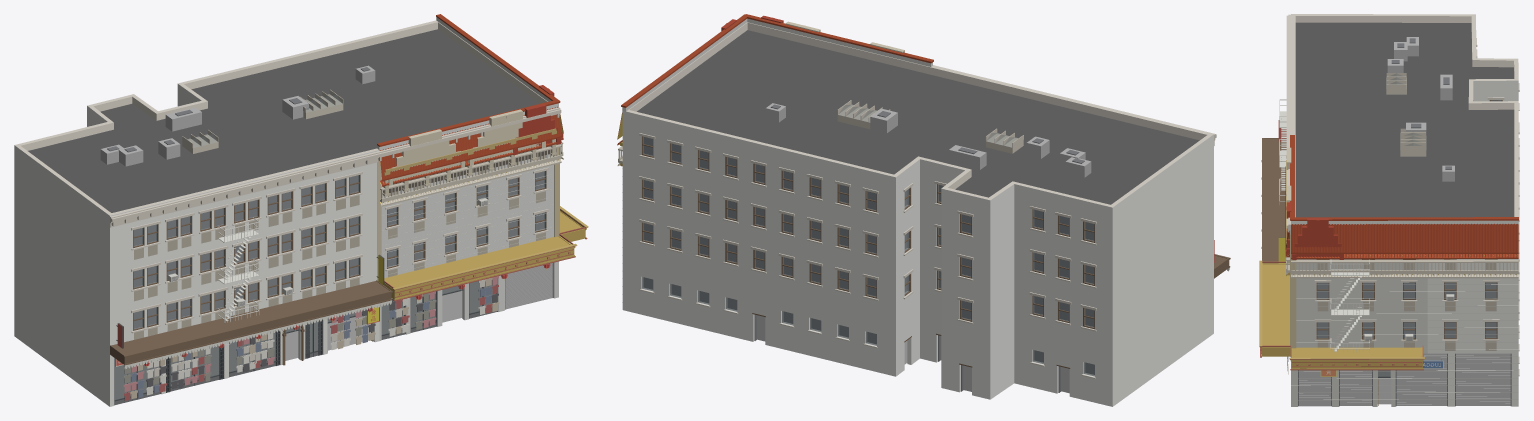
File: exterior.glb
3 views of the same model, side by side, from view 1: azimuth 30°, elevation 25°; view 2: azimuth 150°, elevation 25°; view 3: azimuth 270°, elevation 25° (orthographic). The views are drawn at different scales.
Parts seen in each view (by area): view 1: shell, roof, glazing, marquee-spans, shadow-proxy, trim, shop-hanging-goods, wall-grime, frames, parapet-gables, tile-eave-spans, storefront (+11 smaller); view 2: shell, roof, glazing, shadow-proxy, trim, frames, crown-parapet, rooftop-units, roof-monitors; view 3: roof, shell, tile-eave-spans, marquee-spans, storefront, score-lines, balustrade-spans, trim, crown-parapet, shadow-proxy, glazing, marquee-trim (+10 smaller).
Boxes of the visible parts, left/top/right/bottom form: shell: left=14, top=20, right=558, bottom=406; roof: left=28, top=29, right=539, bottom=212; glazing: left=114, top=171, right=544, bottom=400; marquee-spans: left=110, top=211, right=586, bottom=365; shadow-proxy: left=115, top=171, right=543, bottom=399; trim: left=110, top=107, right=561, bottom=333; shop-hanging-goods: left=123, top=276, right=499, bottom=400; wall-grime: left=134, top=155, right=545, bottom=339; frames: left=133, top=171, right=546, bottom=330; parapet-gables: left=388, top=85, right=563, bottom=185; tile-eave-spans: left=379, top=106, right=563, bottom=206; storefront: left=114, top=262, right=553, bottom=405; shell: left=622, top=22, right=1213, bottom=406; roof: left=637, top=30, right=1199, bottom=204; glazing: left=642, top=137, right=1094, bottom=376; shadow-proxy: left=644, top=137, right=1094, bottom=393; trim: left=639, top=65, right=1216, bottom=378; frames: left=641, top=136, right=1094, bottom=329; crown-parapet: left=621, top=14, right=933, bottom=112; rooftop-units: left=765, top=103, right=1091, bottom=177; roof-monitors: left=837, top=100, right=1023, bottom=153; roof: left=1295, top=22, right=1514, bottom=217; shell: left=1291, top=14, right=1518, bottom=406; tile-eave-spans: left=1285, top=166, right=1518, bottom=278; marquee-spans: left=1260, top=138, right=1423, bottom=369; storefront: left=1298, top=353, right=1511, bottom=406; score-lines: left=1291, top=284, right=1518, bottom=400; balustrade-spans: left=1286, top=257, right=1518, bottom=274; trim: left=1286, top=14, right=1519, bottom=376; crown-parapet: left=1290, top=135, right=1518, bottom=224; shadow-proxy: left=1317, top=100, right=1501, bottom=404; glazing: left=1317, top=100, right=1501, bottom=394; marquee-trim: left=1259, top=260, right=1424, bottom=370.
Size of the model in its own units: 41.21 by 16.23 by 20.29.
